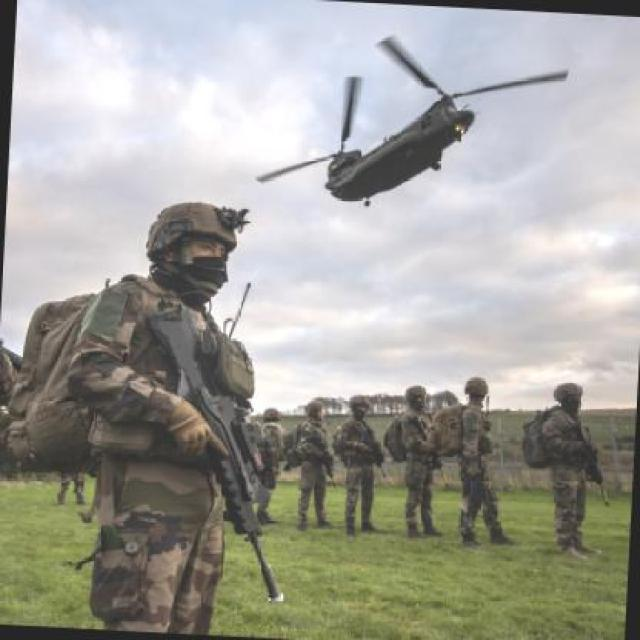MIL_Pax: (16, 192, 258, 631), (528, 377, 610, 560), (448, 374, 510, 551), (391, 381, 447, 537), (338, 390, 385, 535), (295, 398, 334, 527), (248, 406, 284, 528), (53, 466, 84, 506)
